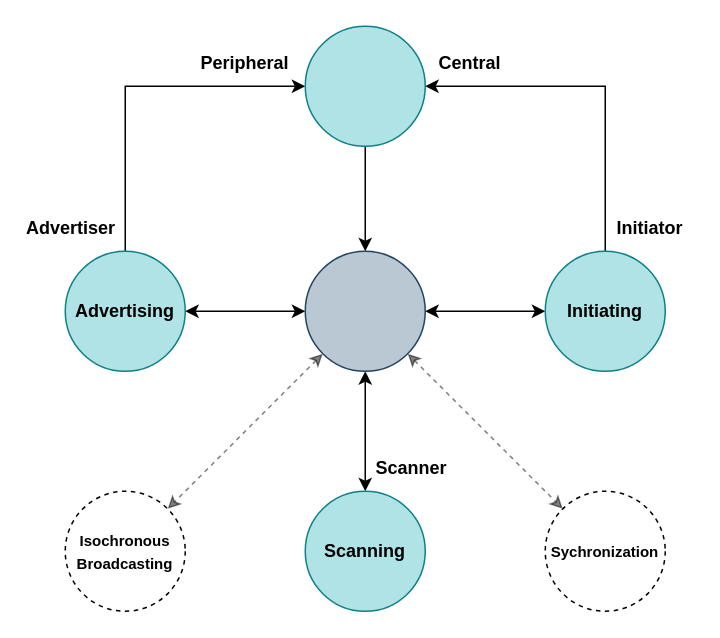
Image size: 720x638. Some labels were removed from this diagram. The centre of each missing label's shape, as x and y in pixels:
"Connection" goes at point (364, 85).
"Standby" goes at point (364, 310).
